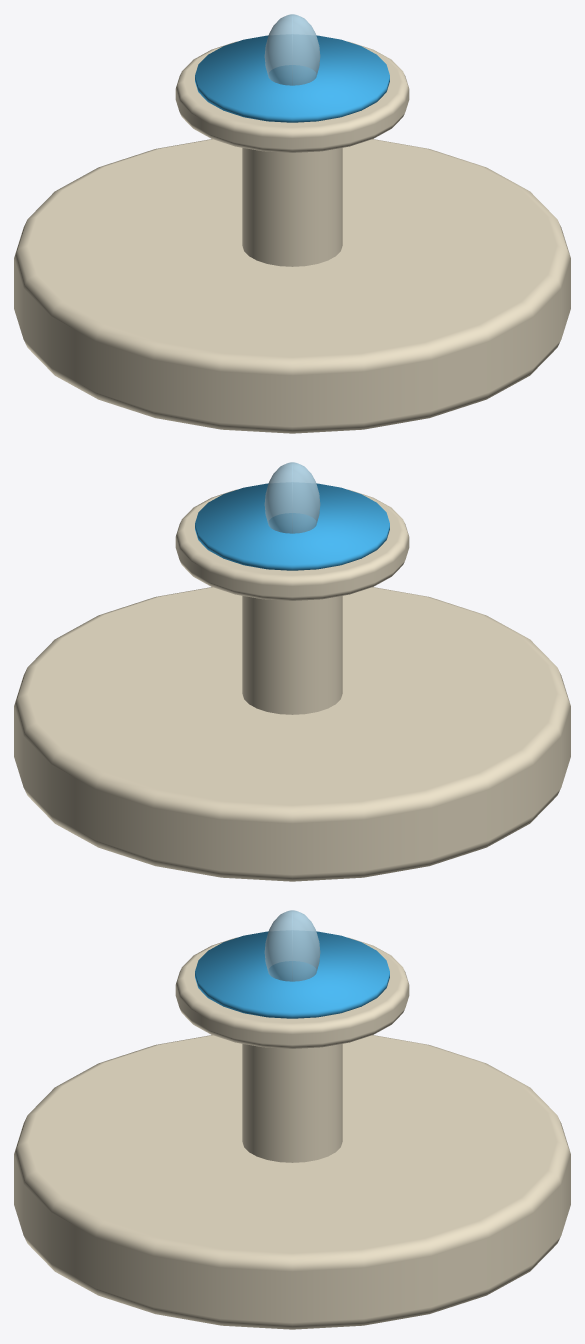
Rendered from fountain.glb.
3 views of the same model, one above another, from view 1: azimuth 30°, elevation 25°; view 2: azimuth 150°, elevation 25°; view 3: azimuth 270°, elevation 25° (orthographic).
Visible parts, largest first — view 1: fountain; view 2: fountain; view 3: fountain.
Boxes of the visible parts, bbox=[...] form: fountain: bbox=[14, 14, 570, 433]; fountain: bbox=[14, 462, 570, 881]; fountain: bbox=[14, 910, 570, 1329].
Size of the model in its own units: 2 by 1.21 by 2.
